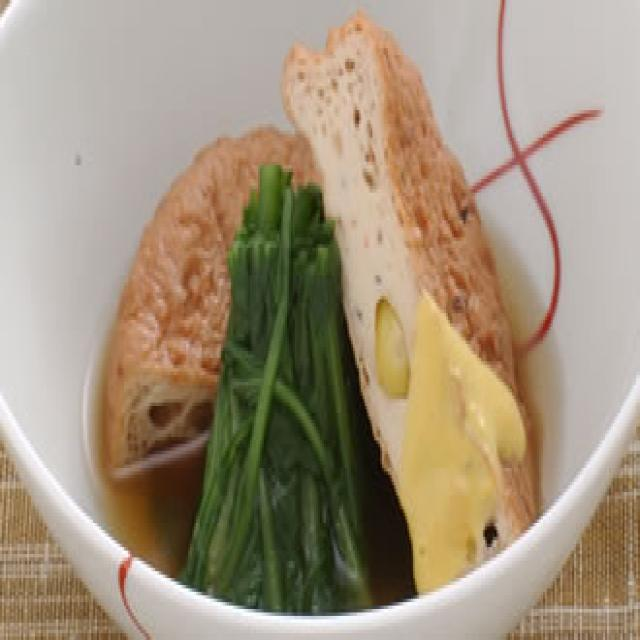熟制海鲜: (78, 24, 528, 582)
